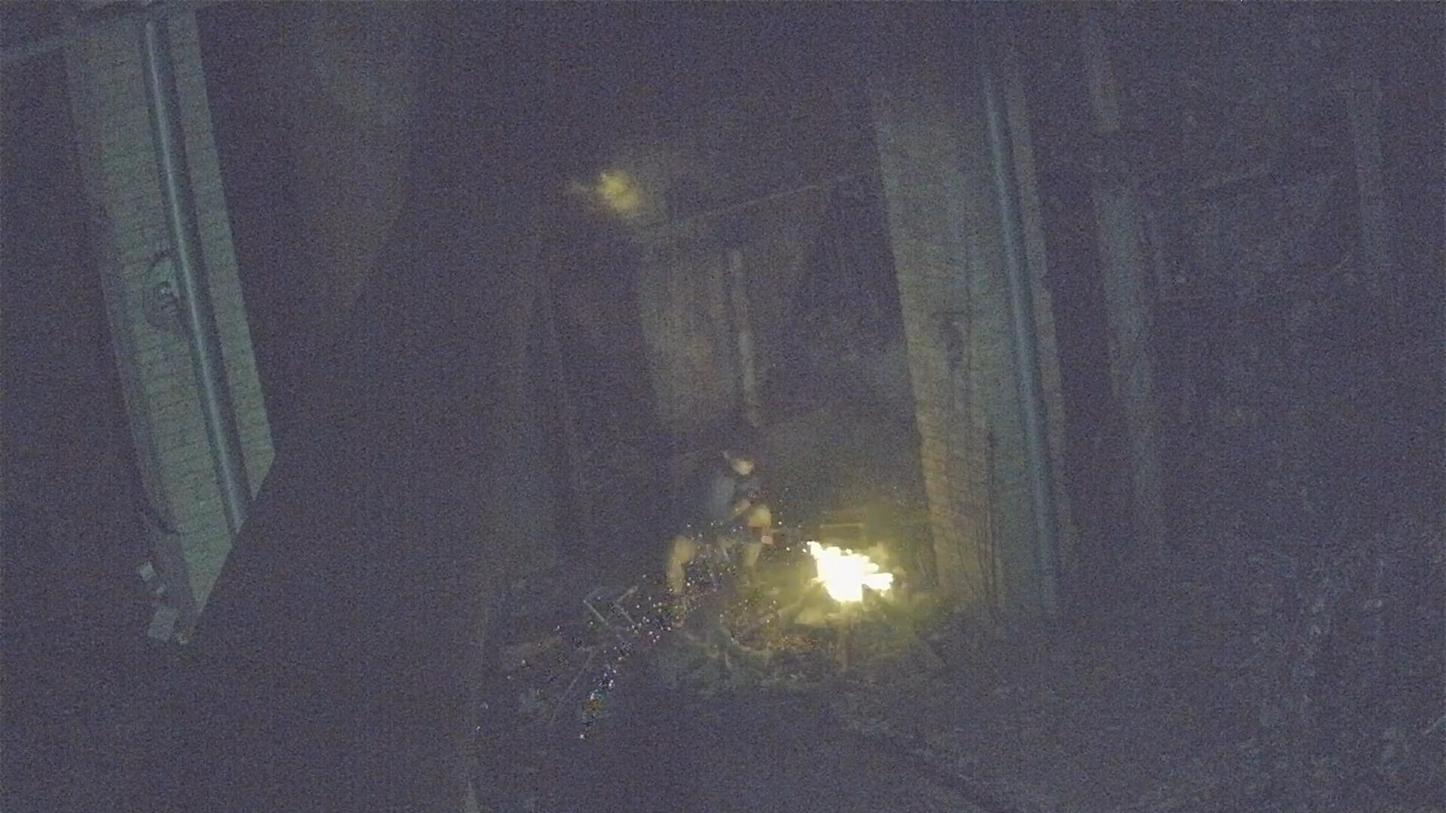fire: (808, 542, 892, 603)
